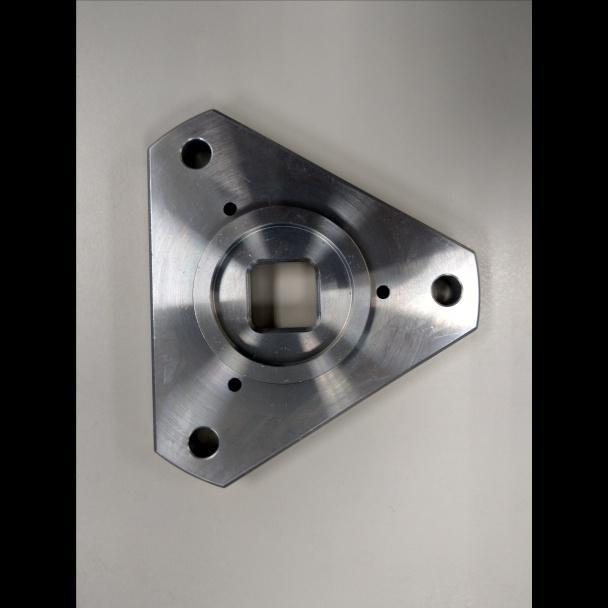hole: (183, 423, 226, 464), (426, 270, 469, 310), (175, 135, 215, 176), (222, 372, 246, 394), (218, 200, 239, 217), (373, 282, 391, 300)
